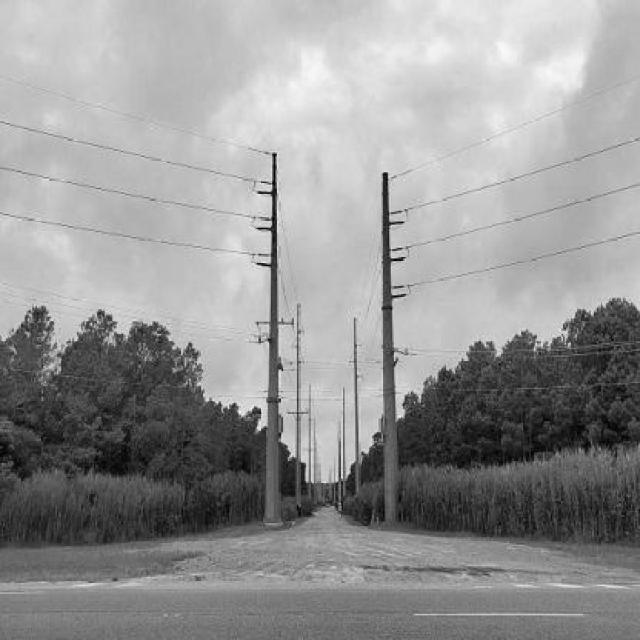Pole: (383, 172, 404, 520), (264, 152, 278, 522)
